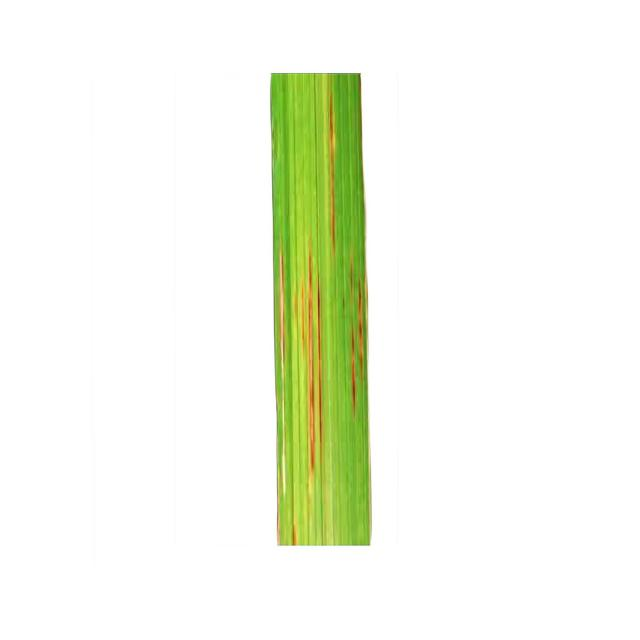Narrow brown: (250, 56, 418, 560)
